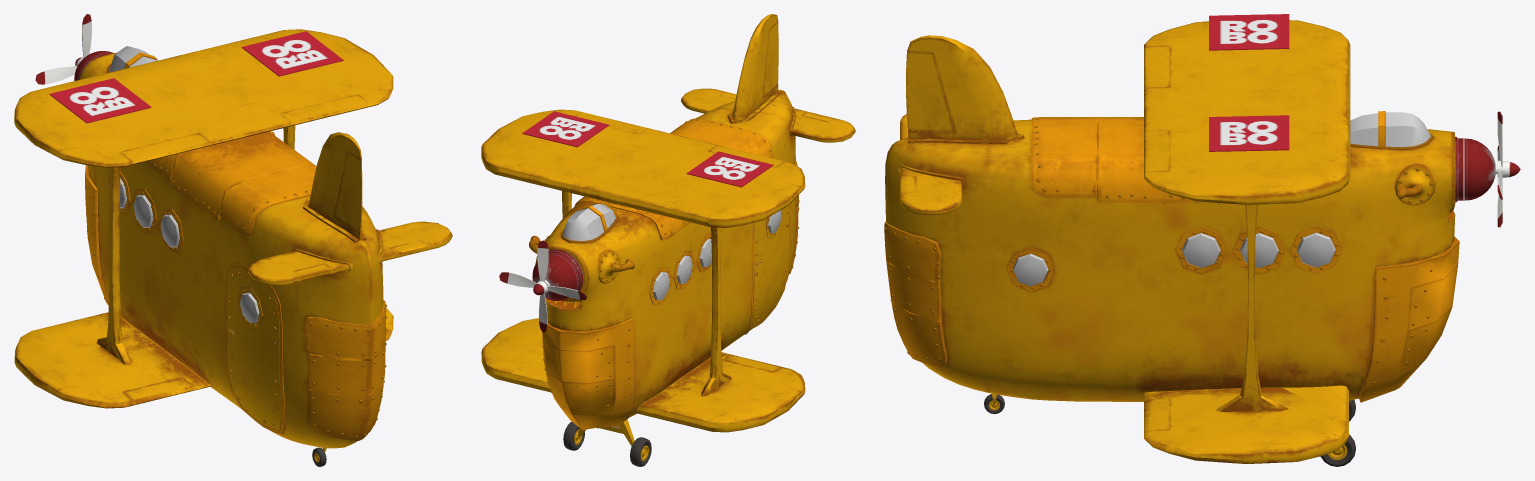
The model's file is samoletche17.fbx.
The picture shows the model from 3 angles, left to right: view 1: azimuth 30°, elevation 25°; view 2: azimuth 150°, elevation 25°; view 3: azimuth 270°, elevation 25°; orthographic projection. The views are drawn at different scales.
Parts seen in each view (by area): view 1: Wings, Body, Parts_1, Door, robo_logo_r, robo_logo_l, Parts, Glass, Parts_1_2, Perki, Bolts, Glass__cabin (+1 smaller); view 2: Wings, Body, Parts, Parts_1, Door, robo_logo_r, robo_logo_l, Perki, Engine_Front, Kolela, Glass__cabin, Glass (+2 smaller); view 3: Body, Wings, Parts_1, Parts, Glass, robo_logo_r, robo_logo_l, Glass__cabin, Engine_Front, Bolts, Kolela, Perki.
Boxes of the visible parts, box(x1,y1,x2,y2) form: Wings: box(14, 29, 452, 408); Body: box(79, 52, 383, 448); Parts_1: box(145, 131, 385, 440); Door: box(226, 267, 281, 430); robo_logo_r: box(241, 31, 343, 76); robo_logo_l: box(49, 78, 151, 123); Parts: box(85, 165, 385, 395); Glass: box(108, 178, 179, 247); Parts_1_2: box(224, 262, 285, 434); Perki: box(35, 14, 91, 84); Bolts: box(86, 160, 386, 438); Glass__cabin: box(110, 46, 156, 72); Wings: box(481, 14, 855, 432); Body: box(529, 89, 796, 417); Parts: box(542, 234, 798, 429); Parts_1: box(574, 118, 798, 273); Door: box(752, 205, 789, 325); robo_logo_r: box(522, 111, 609, 147); robo_logo_l: box(686, 151, 773, 187); Perki: box(499, 240, 586, 332); Engine_Front: box(532, 249, 583, 300); Kolela: box(563, 332, 748, 466); Glass__cabin: box(563, 204, 615, 241); Glass: box(652, 239, 711, 300); Body: box(885, 119, 1455, 401); Wings: box(898, 20, 1350, 463); Parts_1: box(884, 117, 1198, 366); Parts: box(890, 226, 1459, 402); Glass: box(1013, 232, 1335, 286); robo_logo_r: box(1209, 115, 1289, 151); robo_logo_l: box(1209, 14, 1289, 50); Glass__cabin: box(1350, 112, 1430, 147); Engine_Front: box(1455, 136, 1495, 202); Bolts: box(884, 118, 1450, 398); Kolela: box(984, 393, 1355, 466); Perki: box(1495, 111, 1520, 227).
Bounding box in the file's own units: 0.6705 × 0.7094 × 1.
11 materials, 8 textured.
